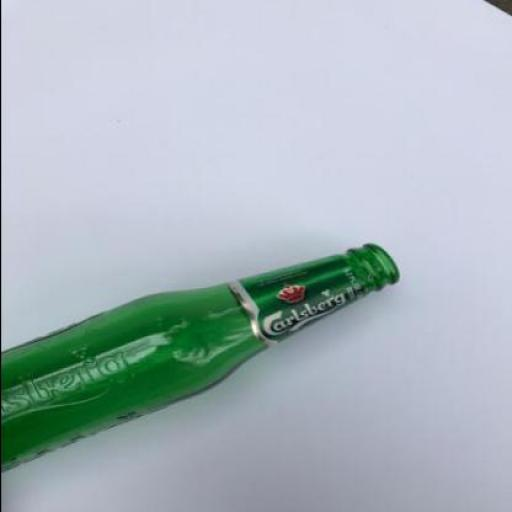glass: (1, 246, 399, 472)
